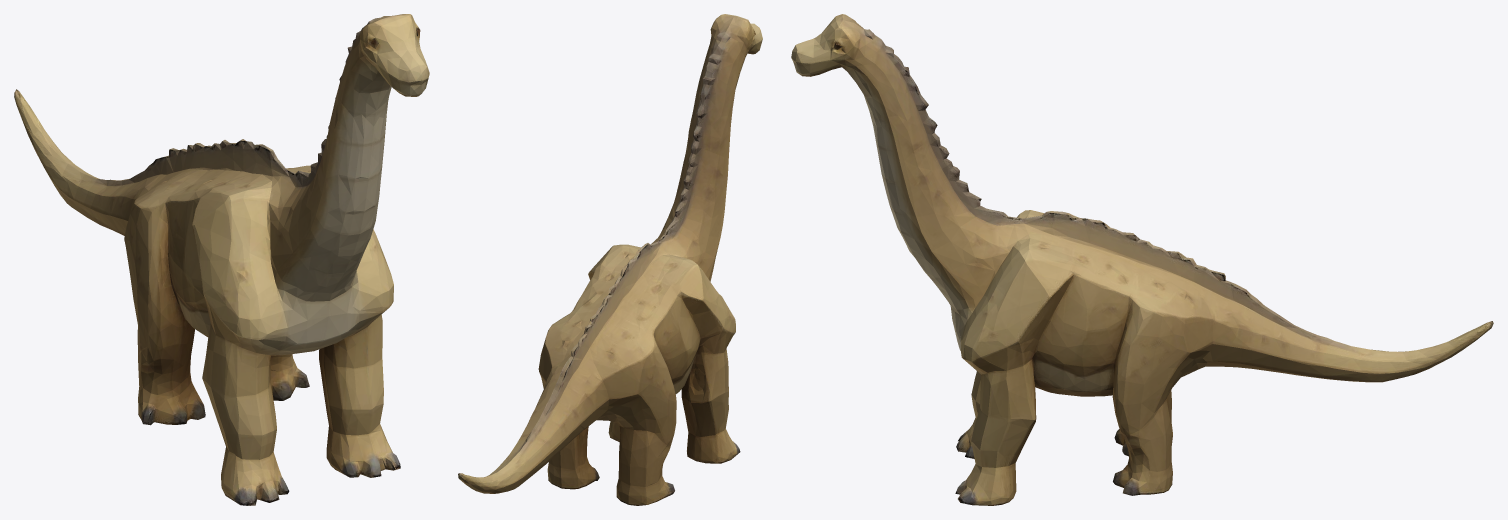
File: argentinosaurus.glb
The picture shows the model from 3 angles, left to right: view 1: azimuth 30°, elevation 25°; view 2: azimuth 150°, elevation 25°; view 3: azimuth 270°, elevation 25°; orthographic projection. The views are drawn at different scales.
Parts seen in each view (by area): view 1: geometry_0; view 2: geometry_0; view 3: geometry_0.
Boxes of the visible parts, left/top/right/bottom form: geometry_0: left=14, top=14, right=429, bottom=505; geometry_0: left=458, top=14, right=762, bottom=505; geometry_0: left=791, top=14, right=1493, bottom=505.
Size of the model in its own units: 0.247 by 0.7097 by 0.9984.
Materials: 1 (1 with a texture image).
